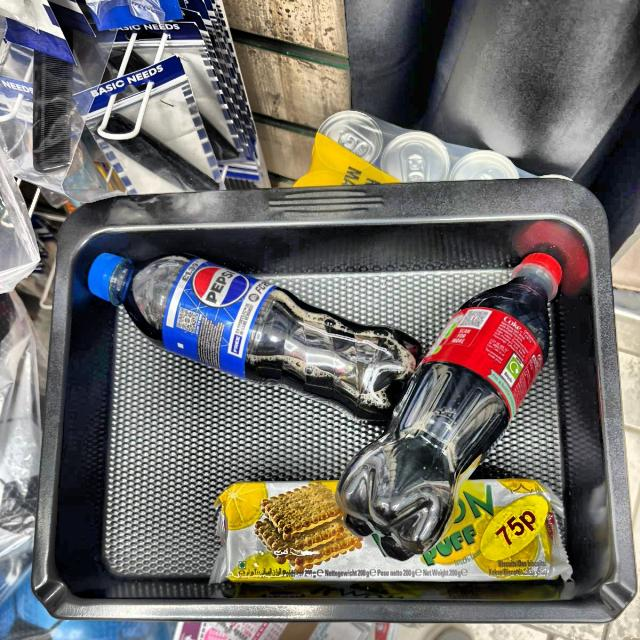coke-bottle: (336, 247, 548, 555)
lemon puff: (215, 483, 581, 595)
pepsi-bottle: (76, 236, 409, 439)
